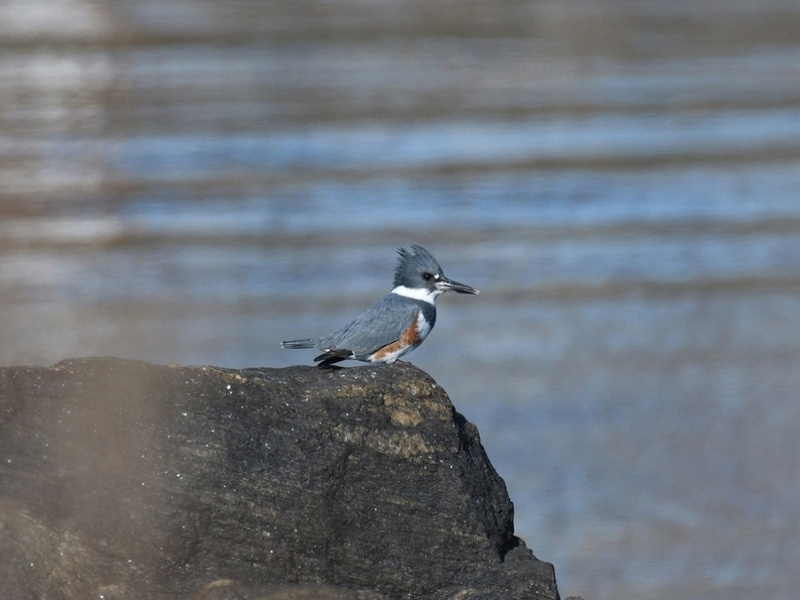kingfisher: (274, 240, 481, 380)
